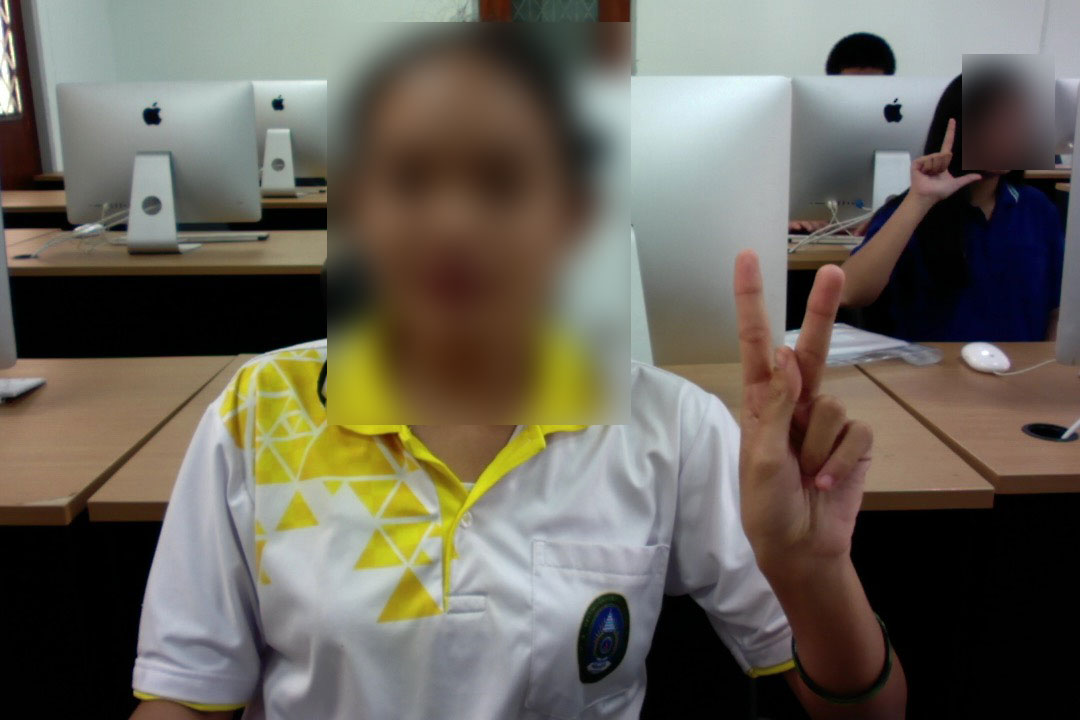ko: (721, 237, 878, 584)
